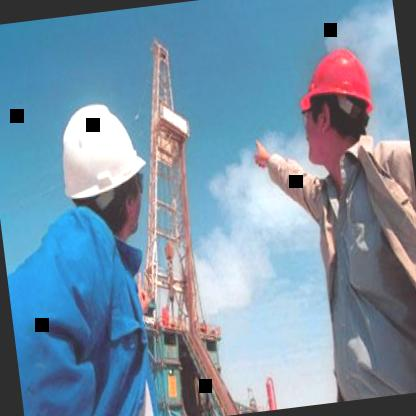helmet: (47, 82, 160, 247), (290, 31, 388, 174)
